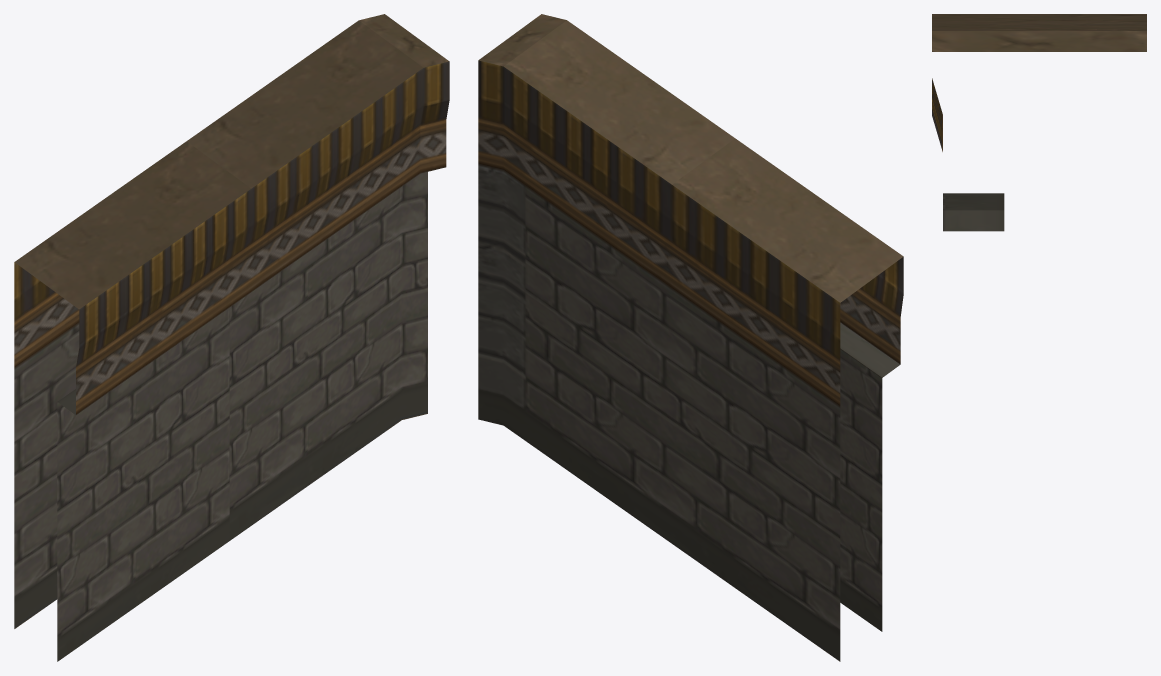
Rendered from Battle06_Wall_05.FBX.
3 views of the same model, side by side, from view 1: azimuth 30°, elevation 25°; view 2: azimuth 150°, elevation 25°; view 3: azimuth 270°, elevation 25° (orthographic). The views are drawn at different scales.
Parts seen in each view (by area): view 1: Battle06_Wall_05; view 2: Battle06_Wall_05; view 3: Battle06_Wall_05.
Boxes of the visible parts, <box> form: Battle06_Wall_05: <box>14,14,449,661</box>; Battle06_Wall_05: <box>478,14,903,661</box>; Battle06_Wall_05: <box>932,14,1146,231</box>.
Size of the model in its own units: 9.75 by 13.23 by 2.95.
